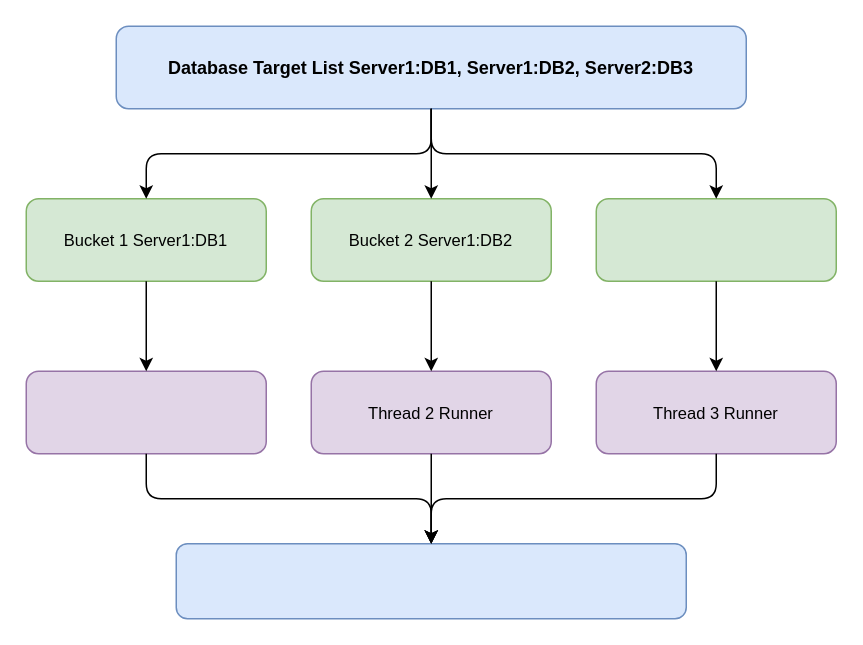
Image size: 863x645. Some labels were removed from this diagram. Each missing label, with the centre of its shape:
Bucket 3 Server2:DB3: the point at 715,239
Task.WhenAll(tasks) Await all completions: the point at 430,580
Thread 1 Runner: the point at 145,412
